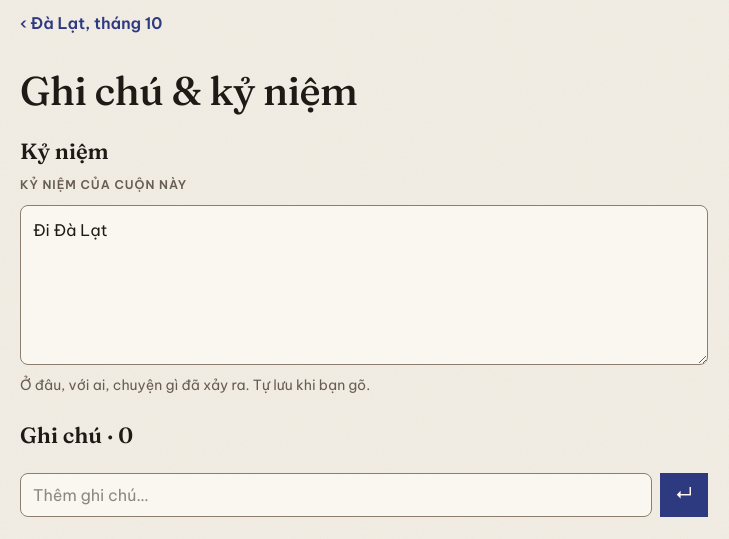
Test case: NotesMemory (NOTE-1, NotesMemory board) › shows the memory in a labelled field and saves it when you leave it
The width and height of the screenshot is (729, 539).
Type " với Minh" into the text box labelled "Kỷ niệm của cuộn này" at (364, 285), box [20,205,708,365]
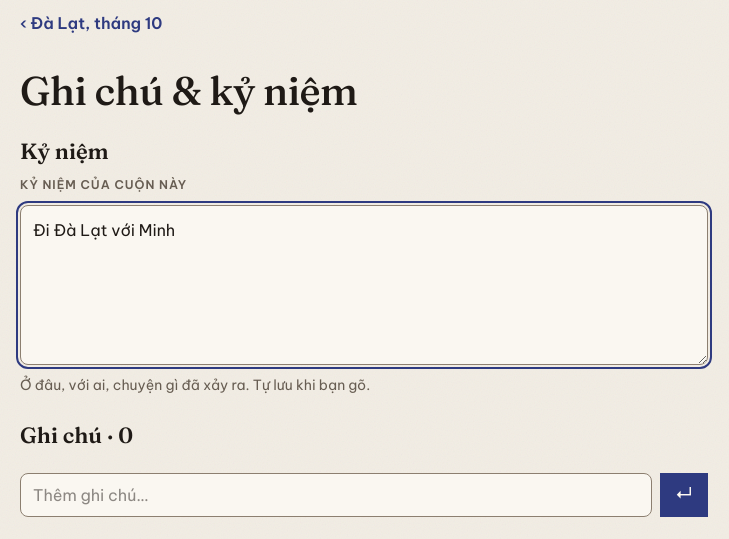
Press Tab
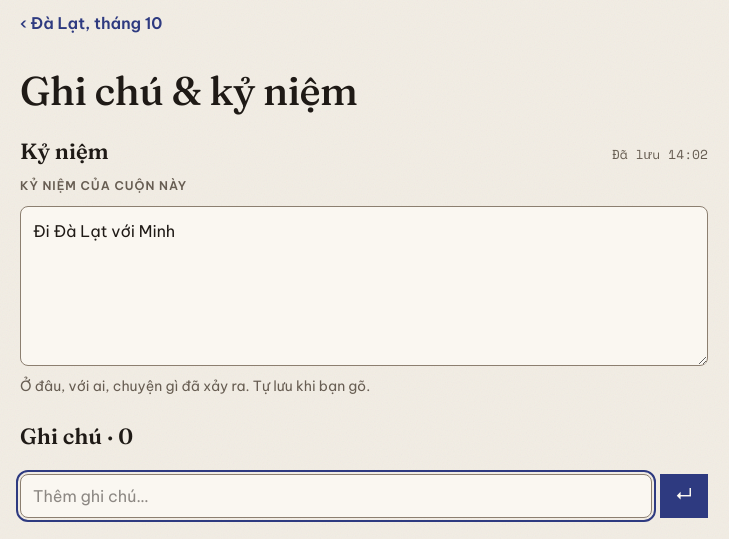
Check: the text "Đã lưu 14:02" is shown, box [612,144,708,164]
